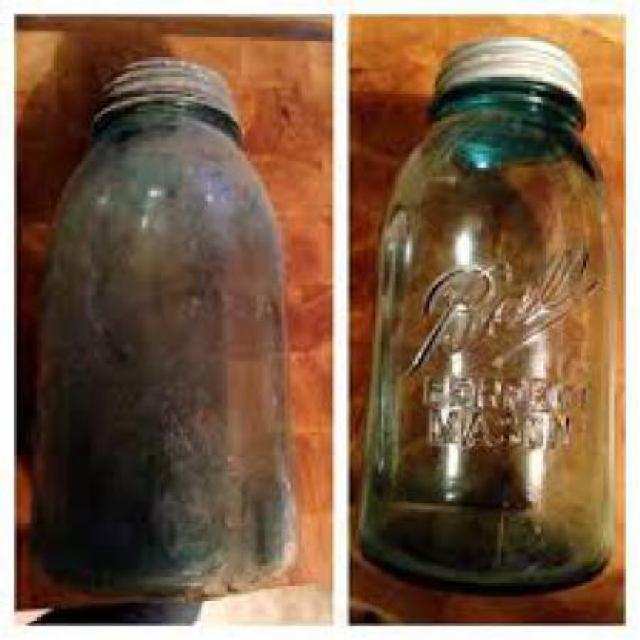kaca: (31, 103, 298, 589), (356, 94, 612, 589)
